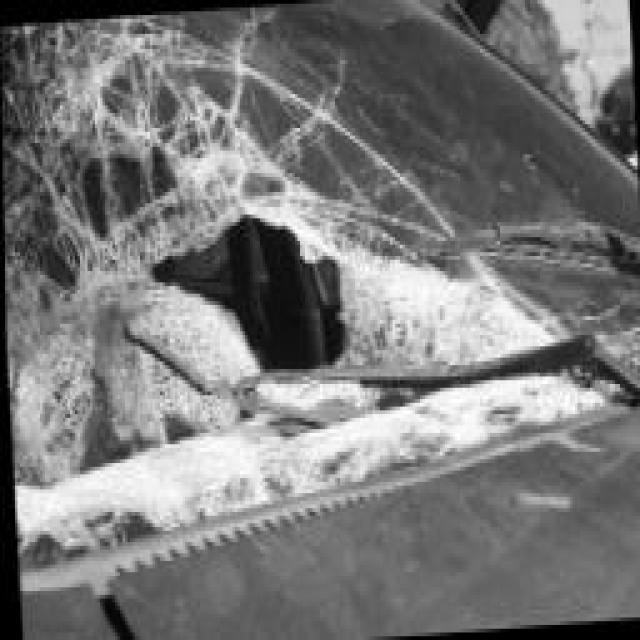Windshield: (0, 0, 640, 463)
